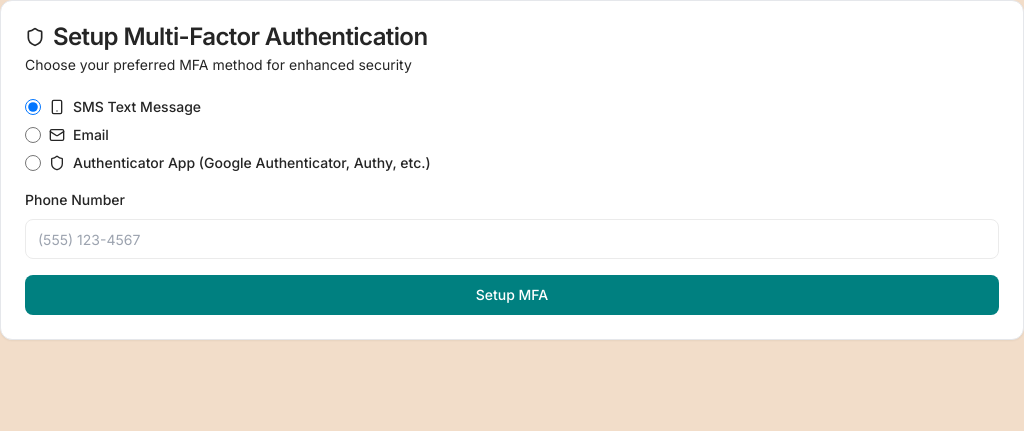
Scenario: MfaSetup › Error Handling › should display error message when setup fails
Type "5551234567" into the field labelled "Phone Number" at point(512, 239), box [25,219,999,259]
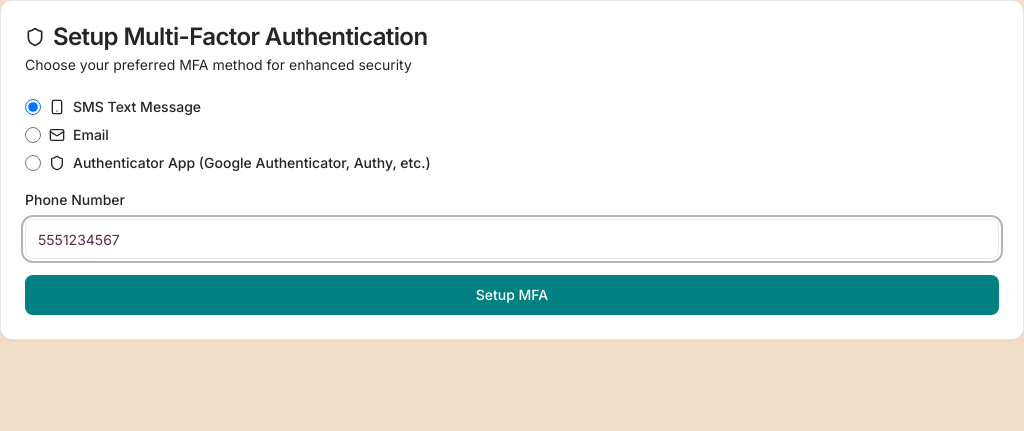
Click the button "Setup MFA" at point(512, 295), box [25,275,999,315]
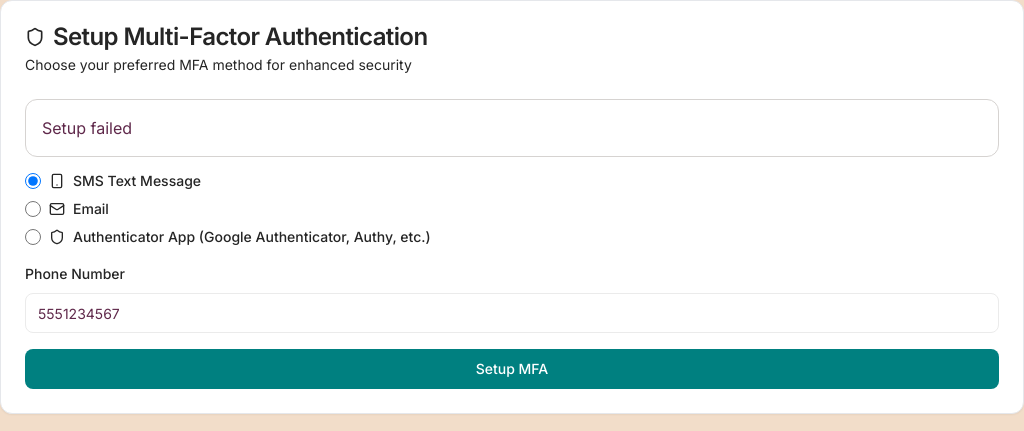
Expected: the text "Setup failed" is shown, [25,99,999,157]
